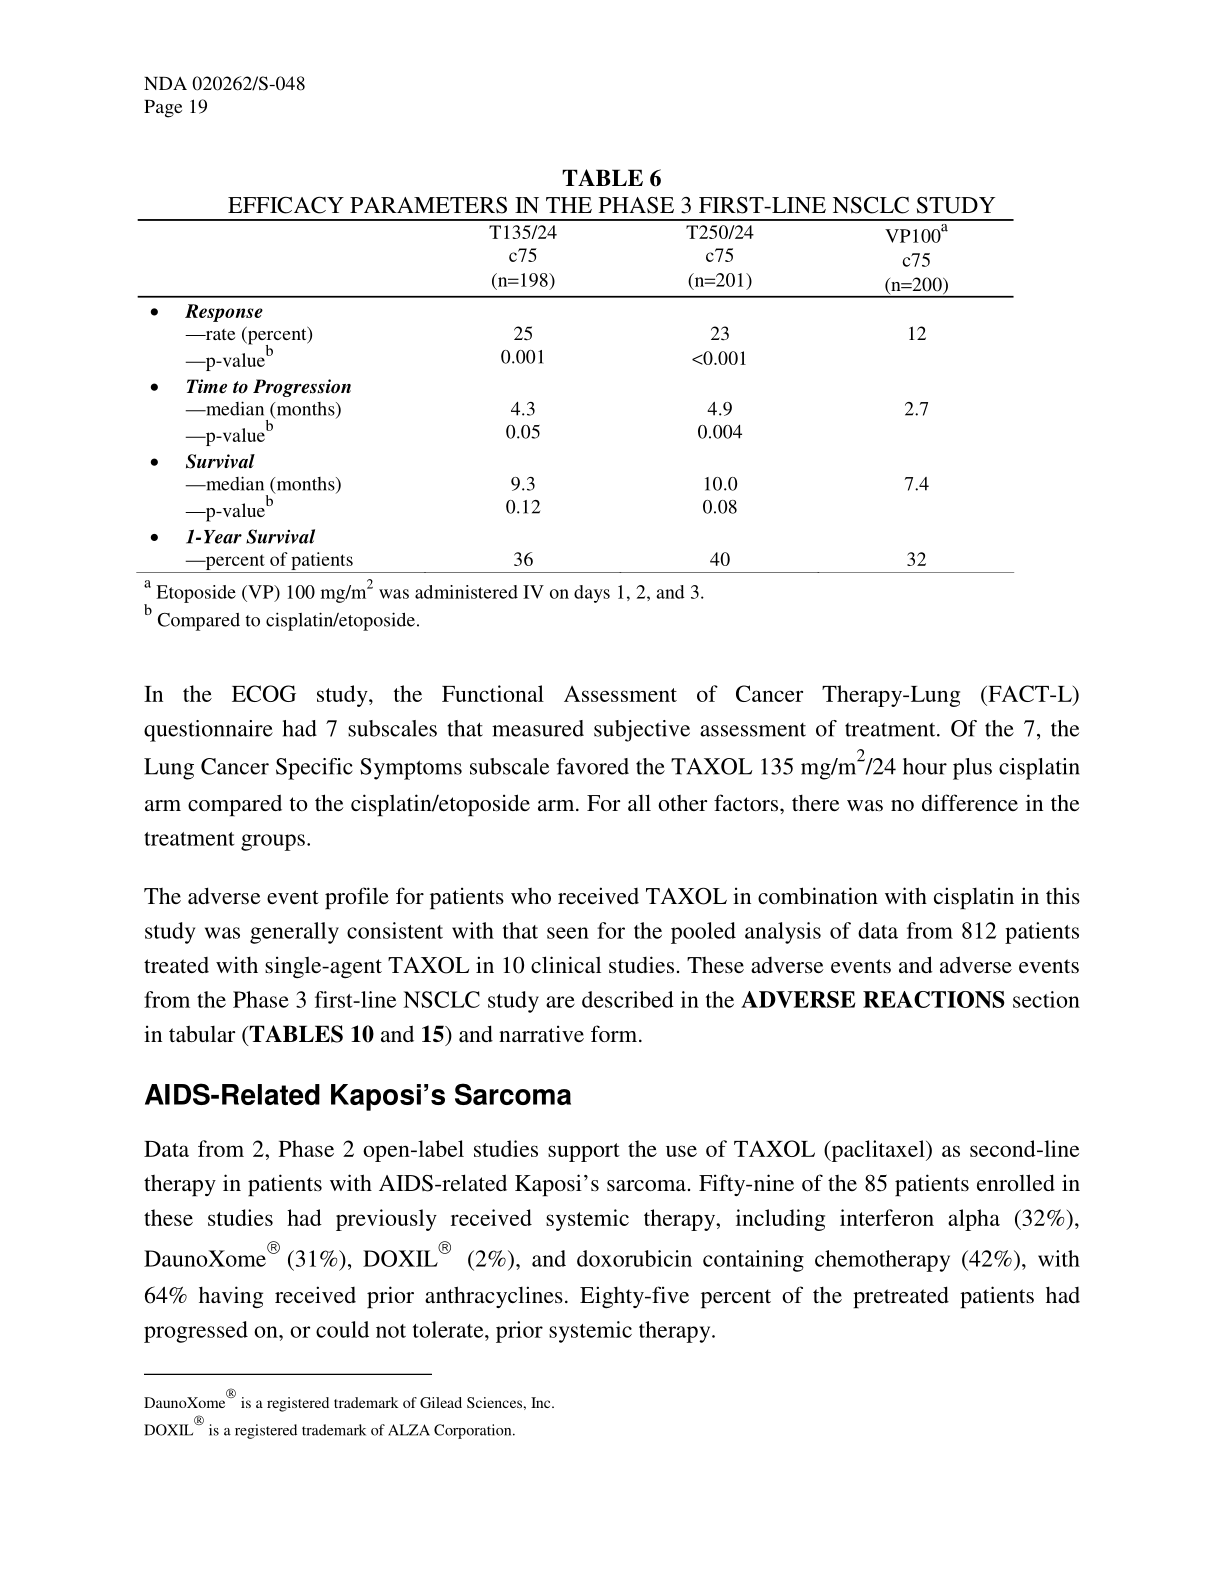partial_lined: (135, 219, 1017, 575)
